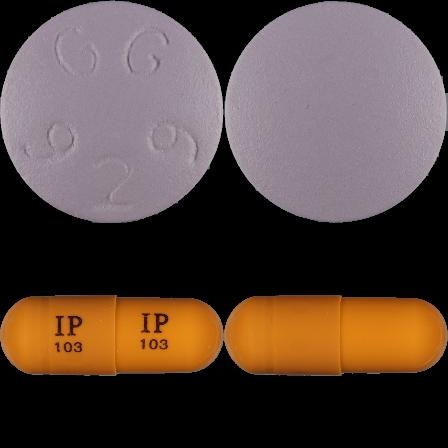0904-6093: (0, 0, 224, 224)
